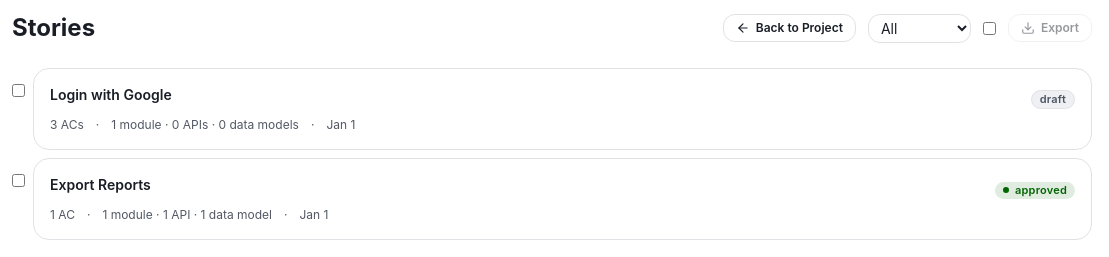
it: StoriesPage (list) › Export button is enabled when >=1 story is selected
Step 1. Click the checkbox named "Select all visible stories" → [989, 28], box [983, 22, 996, 34]
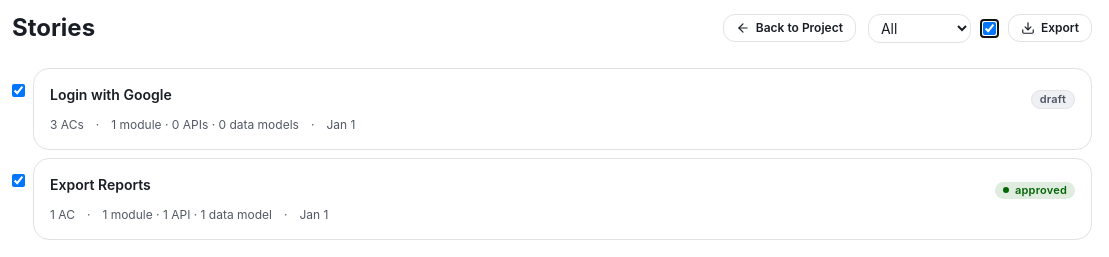
Expected: the button "Export" is enabled, [1008, 14, 1092, 42]
